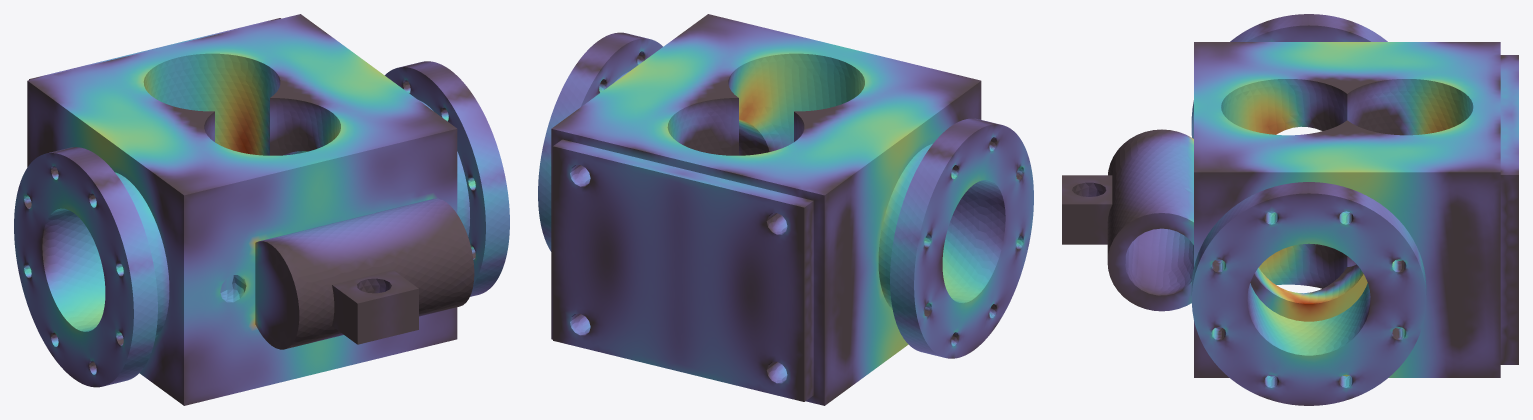
File: body_stress.glb
The picture shows the model from 3 angles, left to right: view 1: azimuth 30°, elevation 25°; view 2: azimuth 150°, elevation 25°; view 3: azimuth 270°, elevation 25°; orthographic projection. The views are drawn at different scales.
Visible parts, largest first — view 1: geometry_0; view 2: geometry_0; view 3: geometry_0.
Boxes of the visible parts, bbox=[...] form: geometry_0: bbox=[14, 14, 509, 405]; geometry_0: bbox=[538, 14, 1033, 405]; geometry_0: bbox=[1062, 14, 1518, 405].
Bounding box in the file's own units: 0.344 × 0.19 × 0.37.
